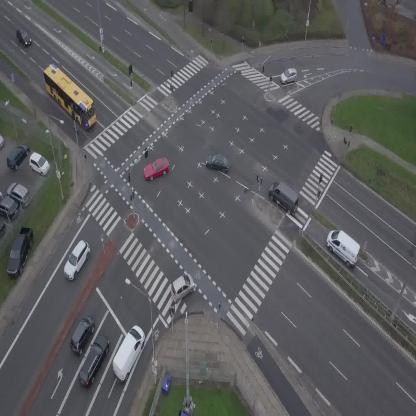bus: (35, 61, 106, 132)
car: (74, 332, 114, 391), (58, 238, 96, 282), (65, 312, 100, 357), (164, 270, 200, 304), (140, 155, 173, 182), (204, 150, 233, 174), (11, 26, 35, 49), (279, 67, 299, 85)
lorry: (107, 322, 151, 383), (320, 225, 367, 270), (264, 176, 307, 218)
